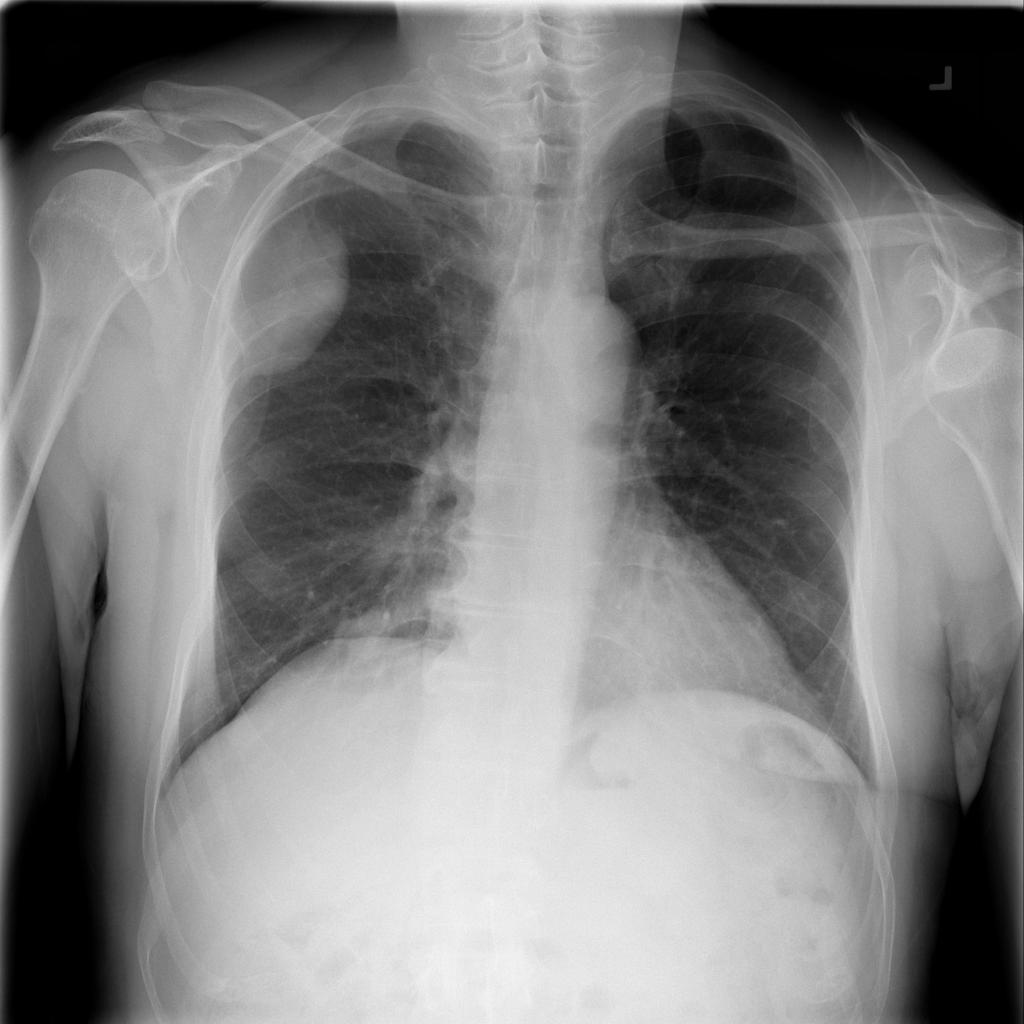nodule: (227, 206, 367, 392)
